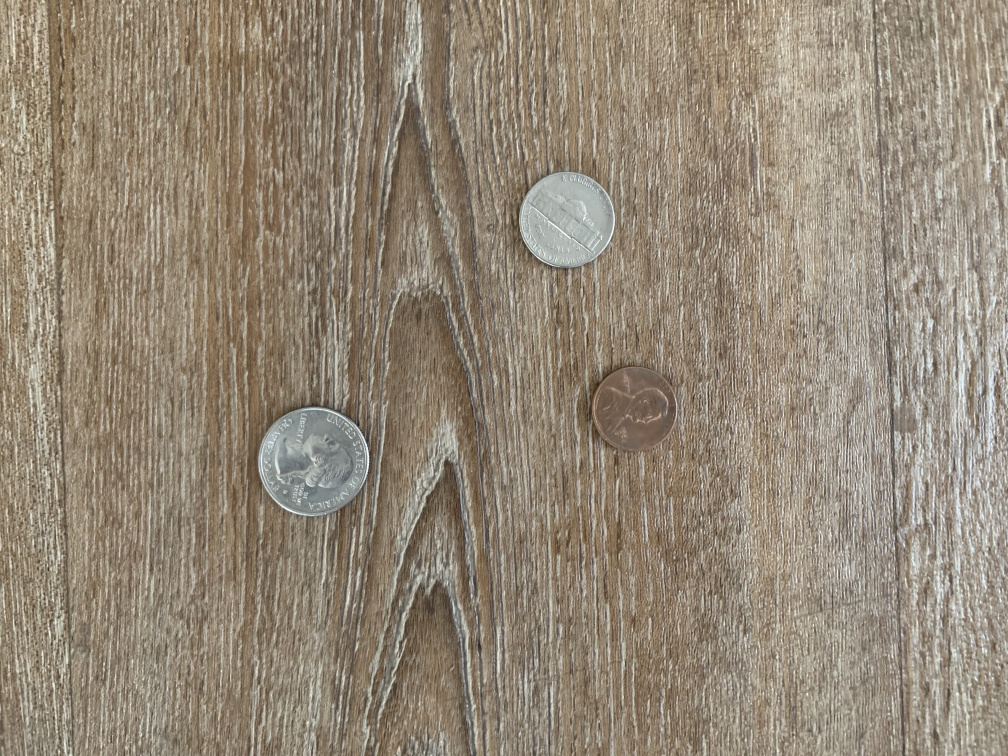nickel: (512, 169, 619, 271)
penny: (589, 362, 680, 454)
quarter: (255, 404, 374, 523)
